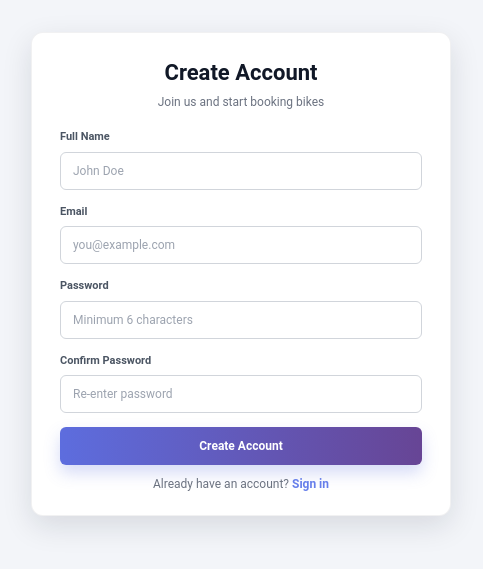
Test: SignUpPage › shows error when passwords do not match
The image size is (483, 569).
Type "TestUser0" into the field labelled "Full Name" at (241, 171), box [60,152,422,190]
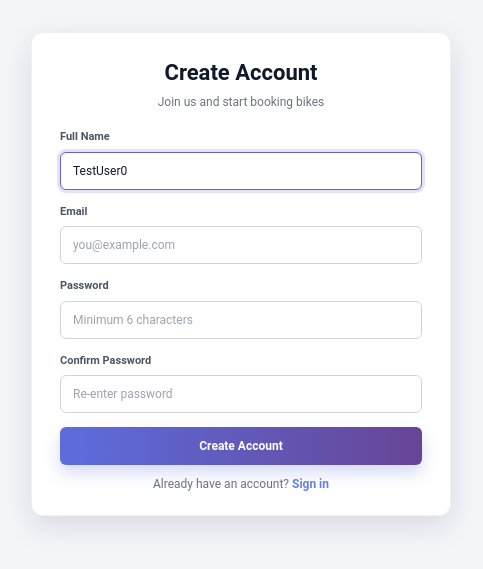
Type "TESTUSER0@TEST.COM" into the field labelled "Email" at (241, 245), box [60,226,422,264]
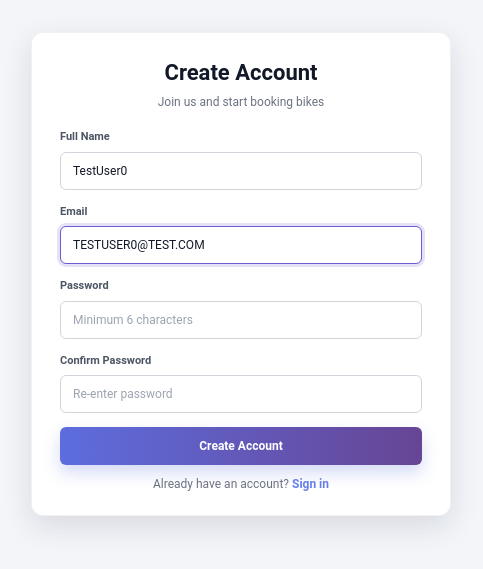
Type "password123" into the password field labelled "Password" at (241, 320), box [60,301,422,339]
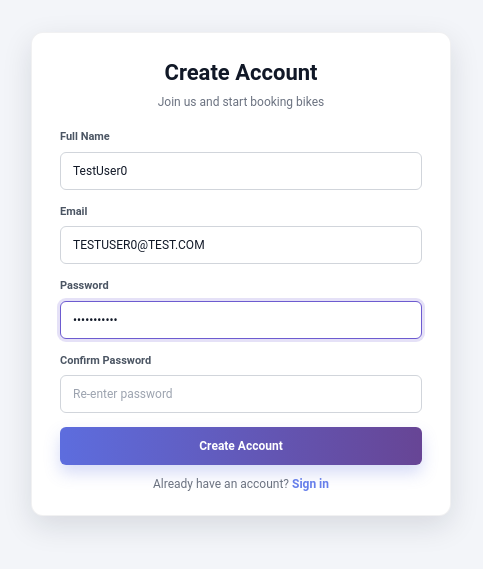
Type "different123" into the password field labelled "Confirm Password" at (241, 394), box [60,375,422,413]
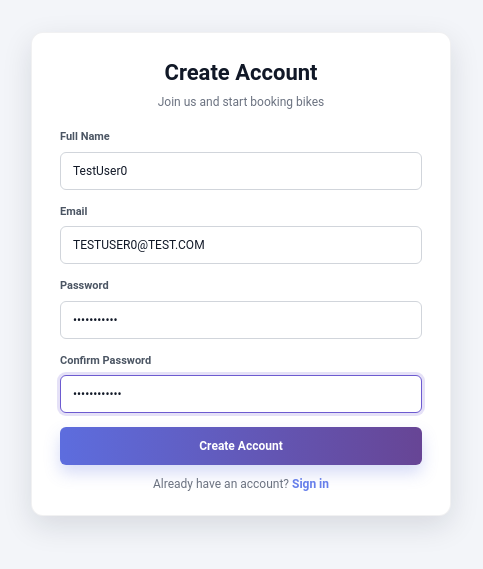
Click the button "Create Account" at (241, 446), box [60,427,422,465]
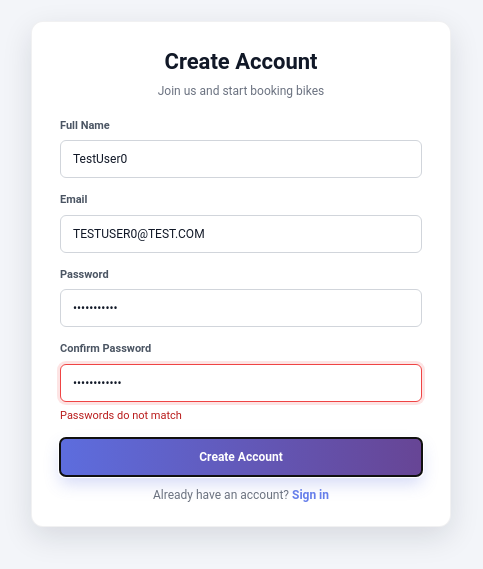
Expected: the text "Passwords do not match" is shown, [60,409,182,422]
